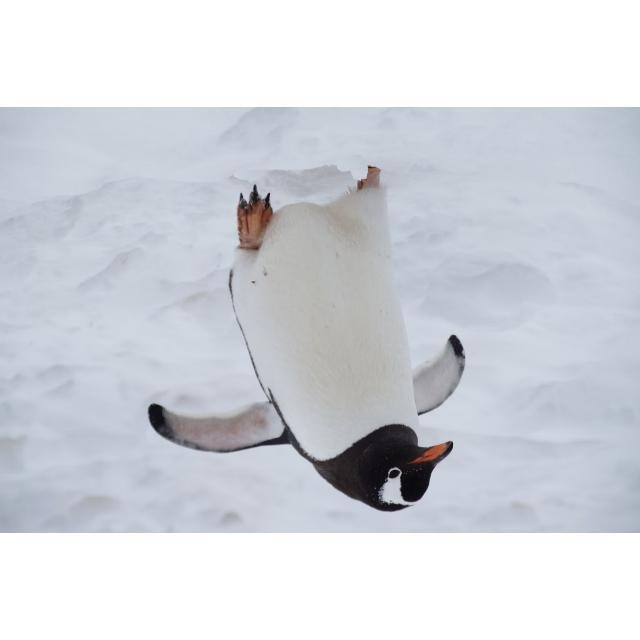penguin: (143, 163, 466, 514)
